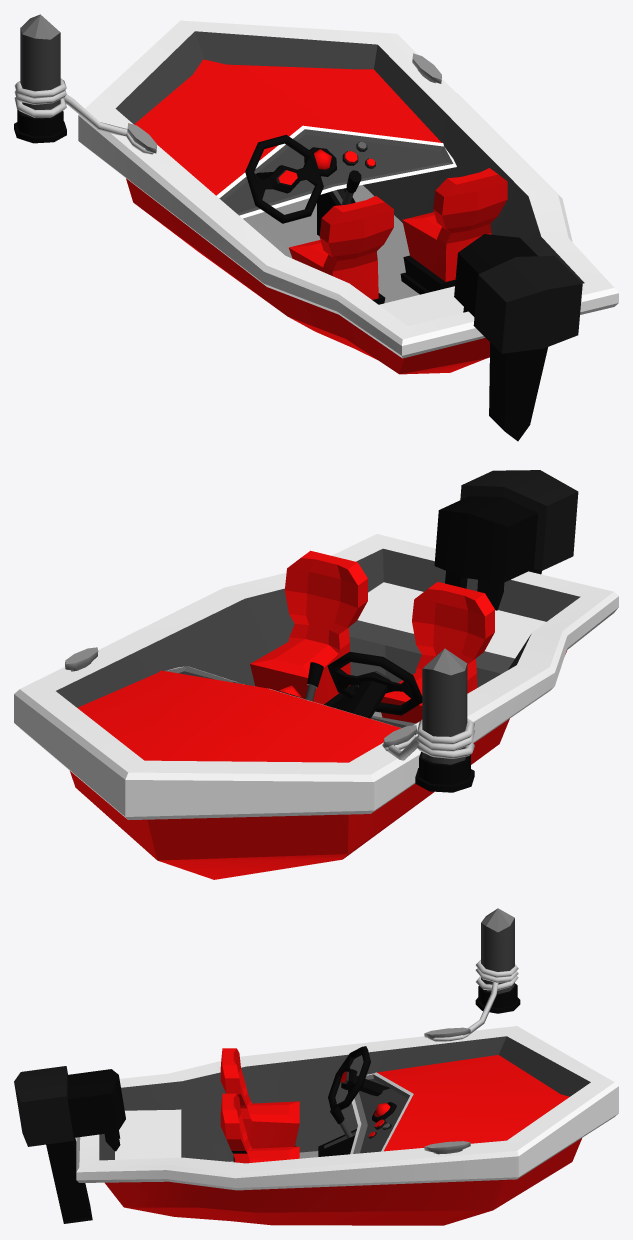
The model's file is SpeedBoat.FBX.
The picture shows the model from 3 angles, top to bottom: view 1: azimuth 30°, elevation 25°; view 2: azimuth 150°, elevation 25°; view 3: azimuth 270°, elevation 25°; orthographic projection. The views are drawn at different scales.
Visible parts, largest first — view 1: Box034; view 2: Box034; view 3: Box034.
Boxes of the visible parts, x1,y1,x2,y2 form: Box034: (14, 14, 618, 441); Box034: (14, 470, 618, 879); Box034: (14, 908, 618, 1225).
Size of the model in its own units: 356 by 244 by 577.
